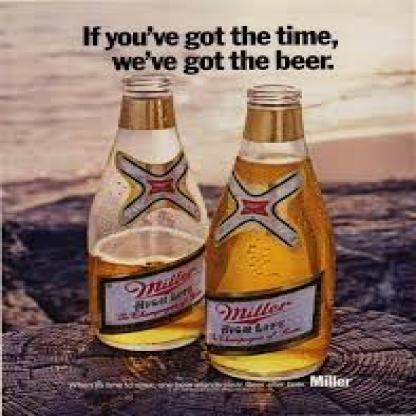trash: (206, 84, 333, 380), (89, 74, 208, 350)
